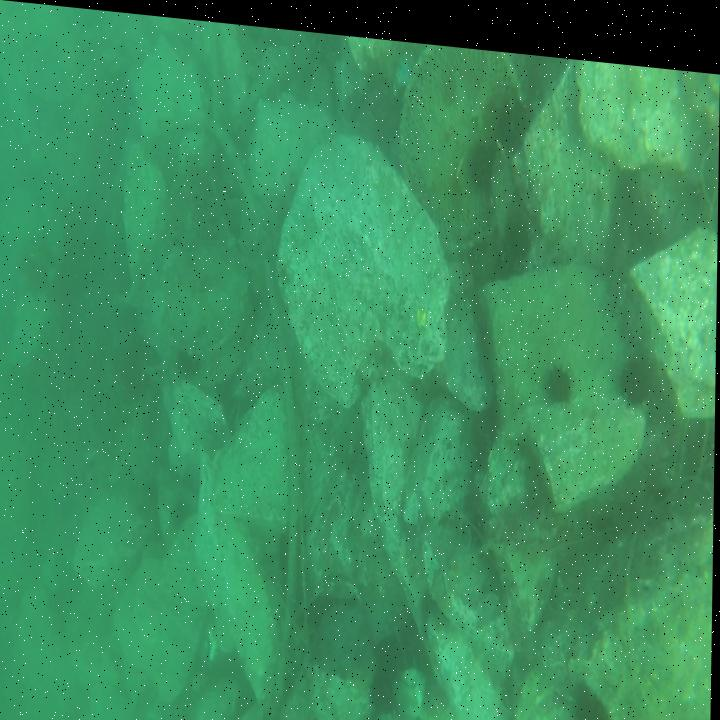echinus: (568, 668, 622, 720), (495, 79, 532, 146), (544, 343, 576, 398), (365, 654, 401, 702), (467, 131, 497, 187), (504, 202, 535, 256), (617, 345, 648, 390), (175, 332, 204, 377)
